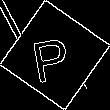P_N: (32, 27, 78, 83)
